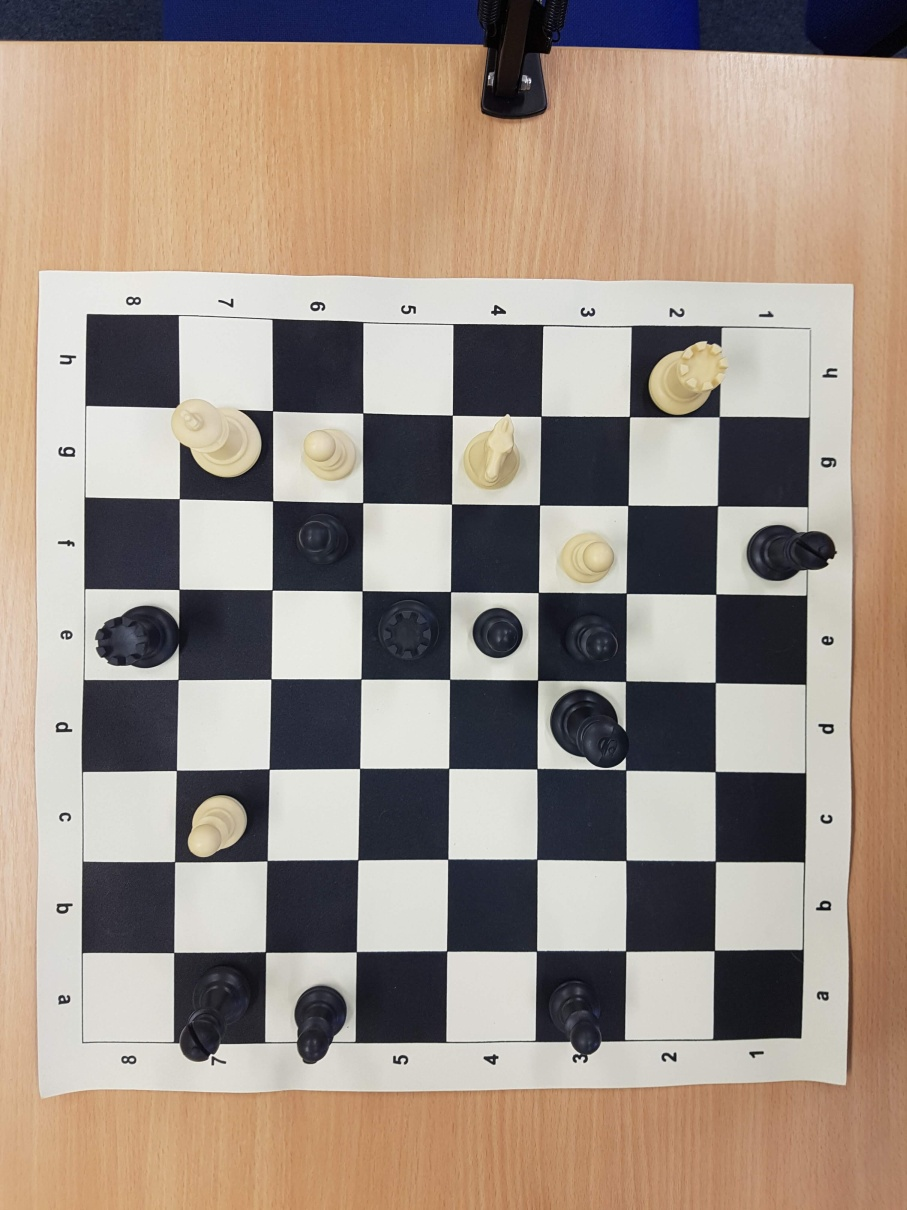chess_bishop: (178, 966, 250, 1062), (746, 525, 835, 581)
chess_king: (172, 399, 263, 478), (550, 689, 627, 767)
chess_knight: (463, 412, 521, 489)
chess_pawn: (291, 985, 344, 1064), (187, 794, 248, 856), (550, 985, 601, 1053), (301, 428, 359, 482), (295, 512, 353, 566), (560, 534, 613, 585), (567, 616, 620, 664), (473, 609, 524, 658)
chess_rook: (648, 341, 728, 416), (95, 606, 180, 669), (379, 599, 440, 662)
